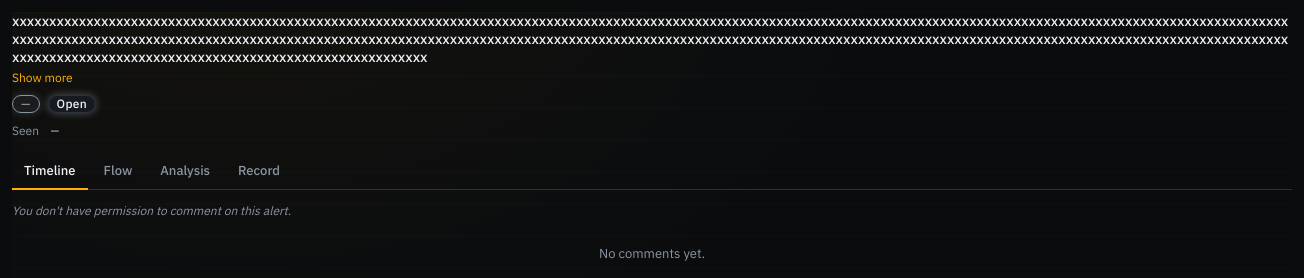
Test: AlertRowDetail — header facts › offers Show more only when the clamp hides something
The image size is (1304, 278).
Click the button "Show more": (42, 78) x1=12 y1=69 x2=73 y2=87
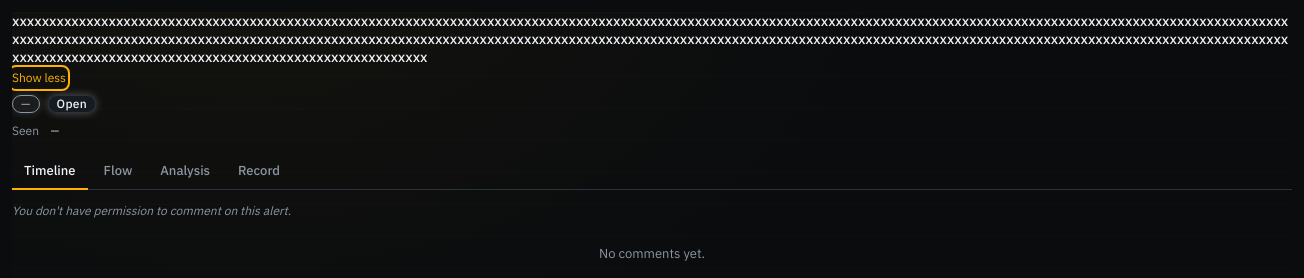
Expected: the button "Show less" is expanded, x1=12 y1=69 x2=66 y2=87
